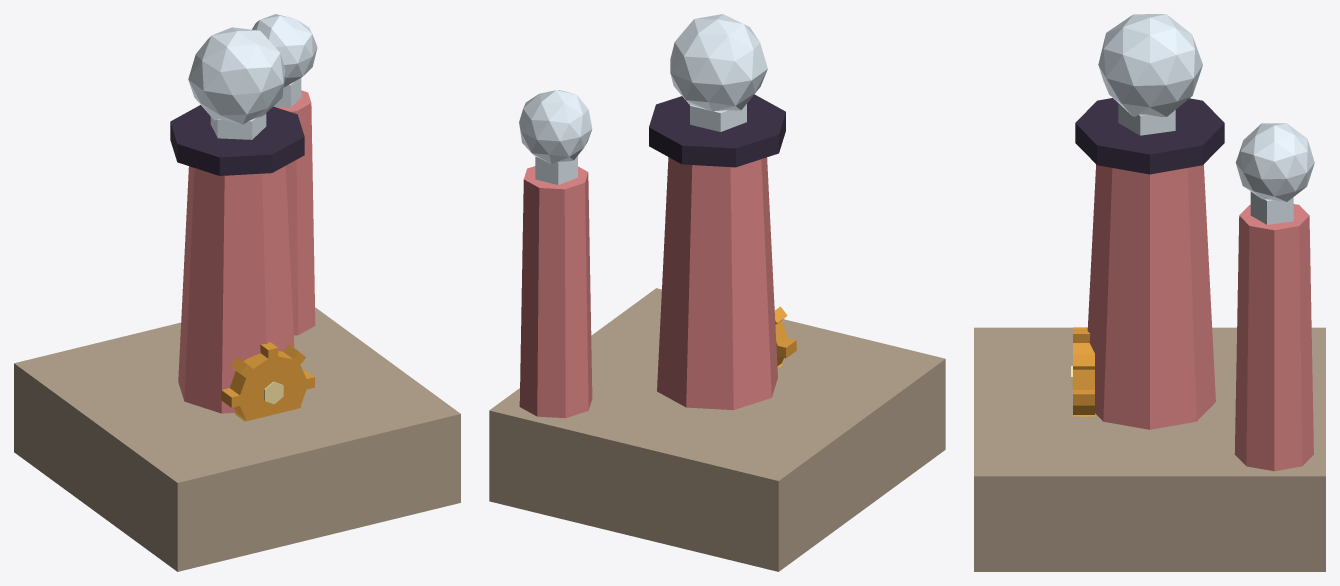
The model's file is factory-g1.glb.
3 views of the same model, side by side, from view 1: azimuth 30°, elevation 25°; view 2: azimuth 150°, elevation 25°; view 3: azimuth 270°, elevation 25° (orthographic). The views are drawn at different scales.
Parts seen in each view (by area): view 1: factory-g1; view 2: factory-g1; view 3: factory-g1.
Boxes of the visible parts, left/top/right/bottom form: factory-g1: left=14, top=14, right=460, bottom=571; factory-g1: left=489, top=14, right=945, bottom=571; factory-g1: left=974, top=14, right=1325, bottom=571.
Size of the model in its own units: 0.8 by 1.2 by 0.8.
